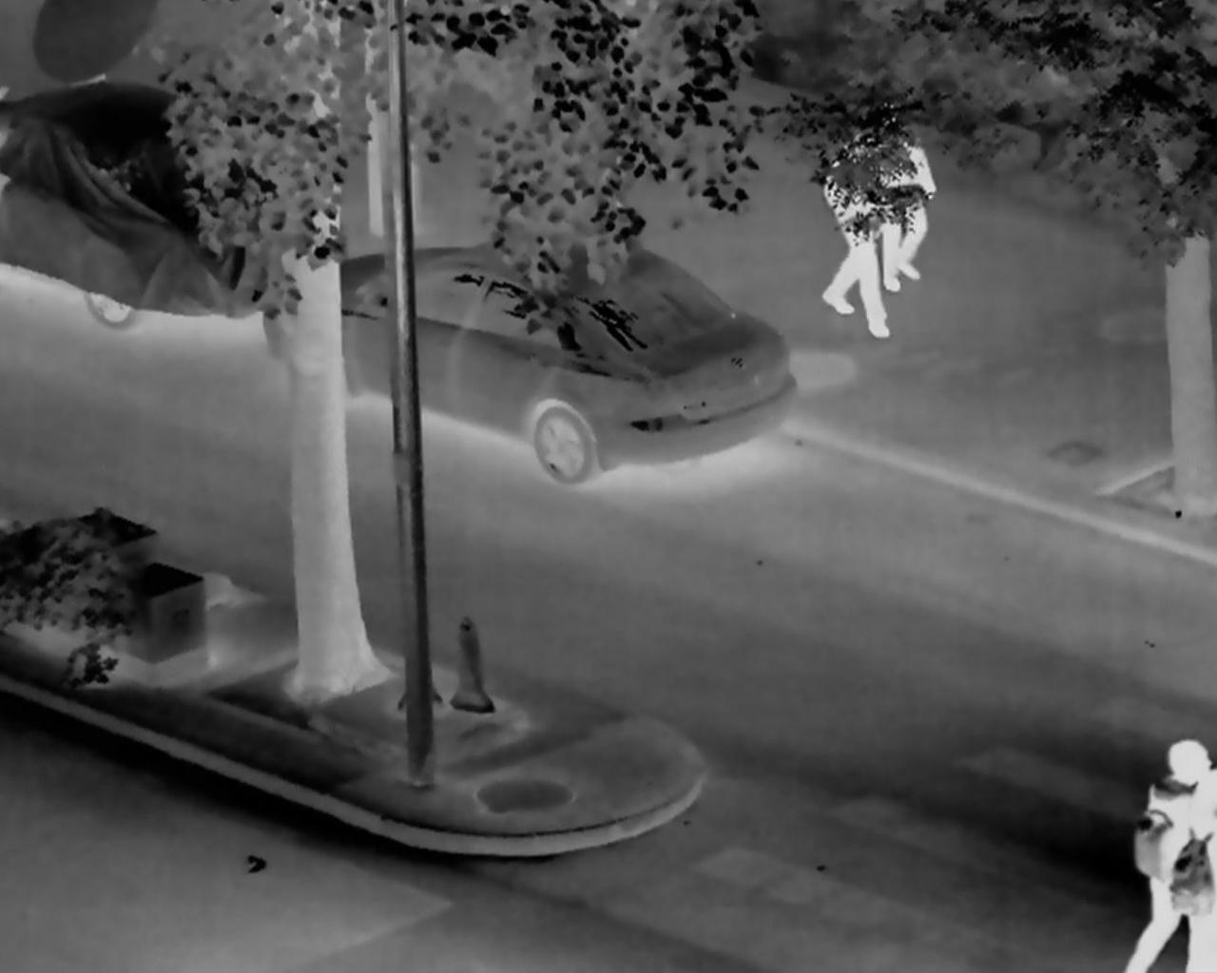person: (1130, 737, 1217, 973), (820, 137, 895, 342), (857, 93, 938, 282), (1172, 768, 1217, 973)
